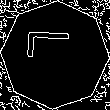L_E: (29, 38, 81, 72)
